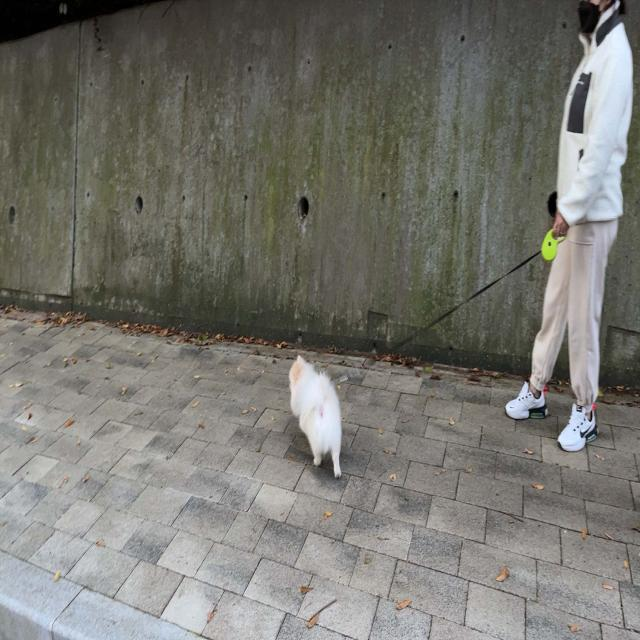Leashed_Dog: (289, 208, 581, 476)
